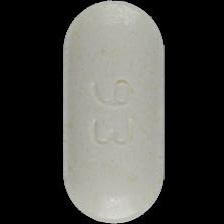0093-2267: (0, 0, 224, 224)
